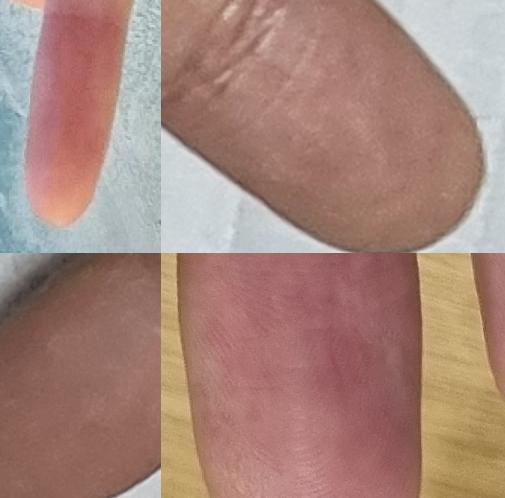Fingerprints: (165, 0, 489, 253), (177, 253, 422, 498), (0, 253, 161, 498), (24, 17, 127, 226)
